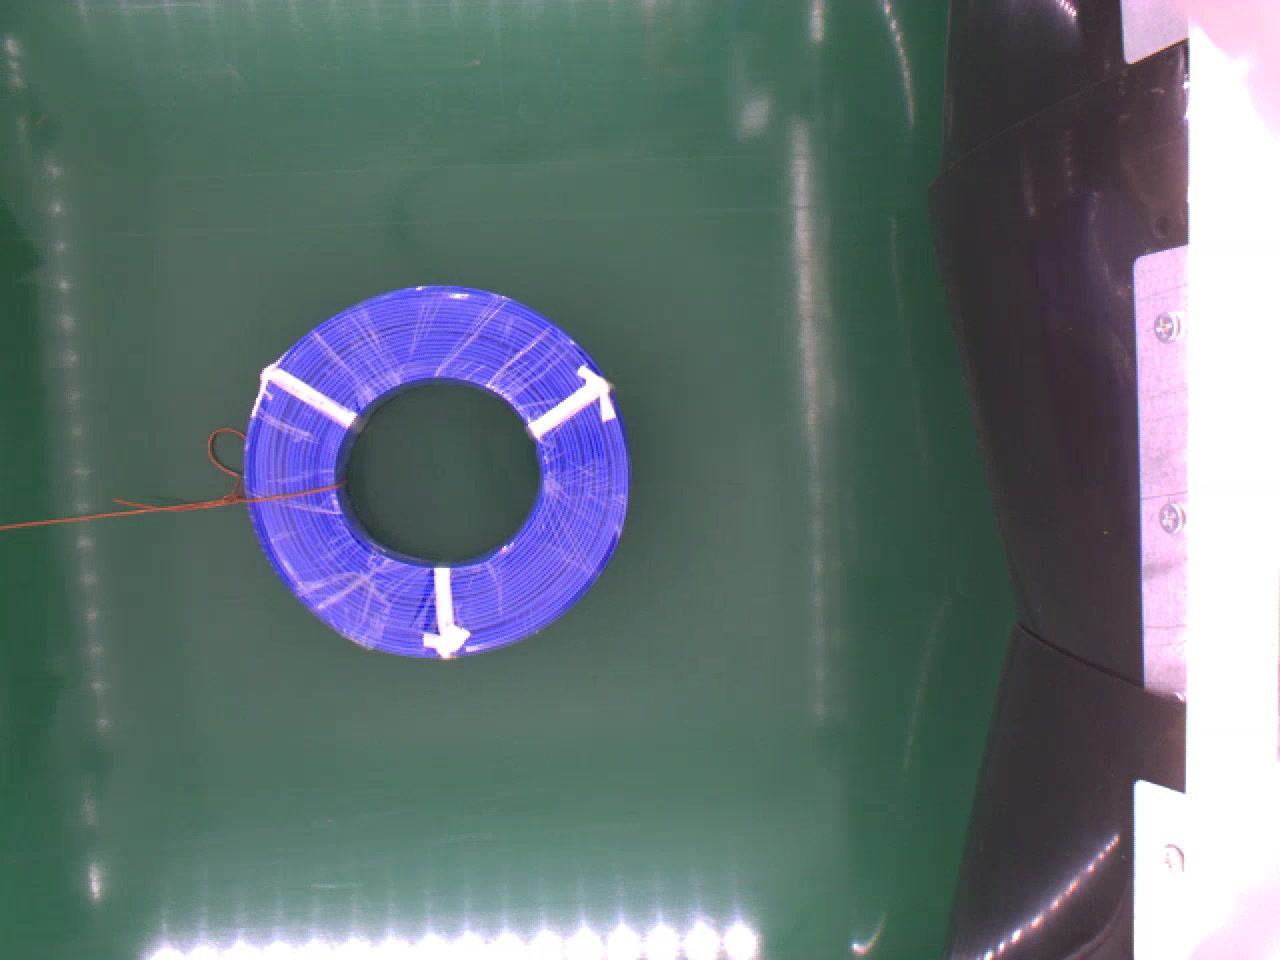blue: (239, 277, 635, 658)
